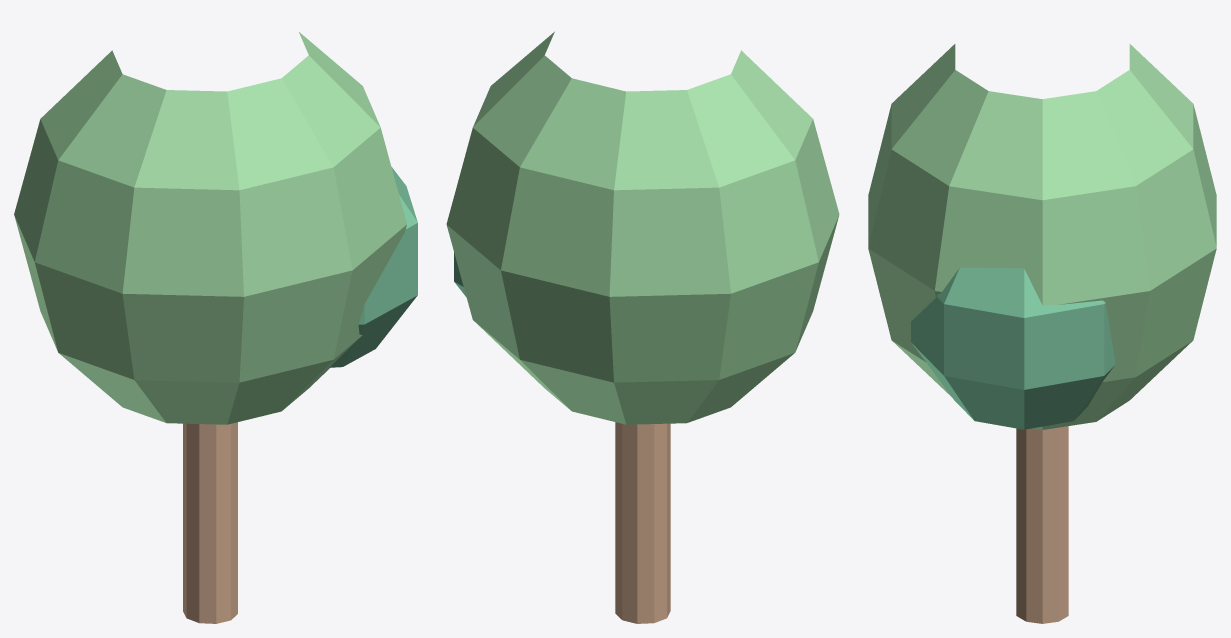
The model's file is 13_tree_round.glb.
The picture shows the model from 3 angles, left to right: view 1: azimuth 30°, elevation 25°; view 2: azimuth 150°, elevation 25°; view 3: azimuth 270°, elevation 25°; orthographic projection.
Parts seen in each view (by area): view 1: 13_tree_round; view 2: 13_tree_round; view 3: 13_tree_round.
Part boxes in pixels (x1,y1,x2,y2): 13_tree_round: [14, 32, 417, 623]; 13_tree_round: [446, 31, 839, 623]; 13_tree_round: [868, 44, 1216, 623].
Size of the model in its own units: 2.27 by 3.35 by 1.9.
